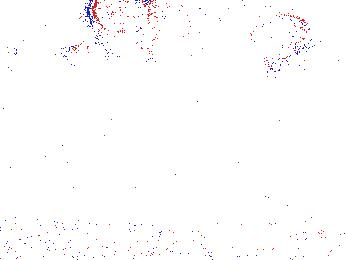moon jellyfish: (248, 14, 313, 75), (87, 1, 149, 52), (212, 1, 288, 41), (147, 1, 192, 66), (65, 35, 129, 76)
